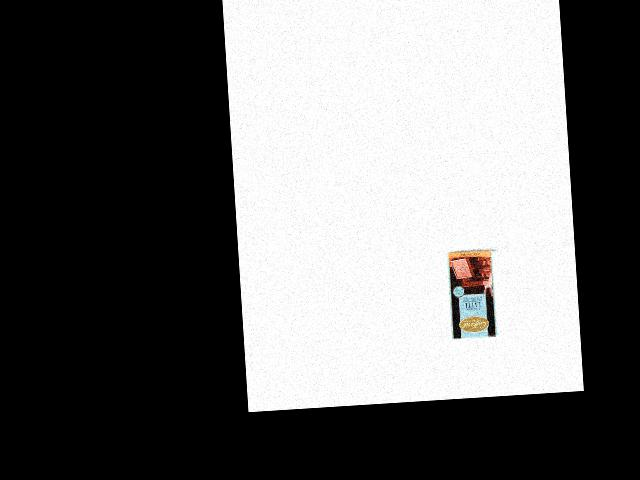chocolate: (445, 248, 499, 340)
